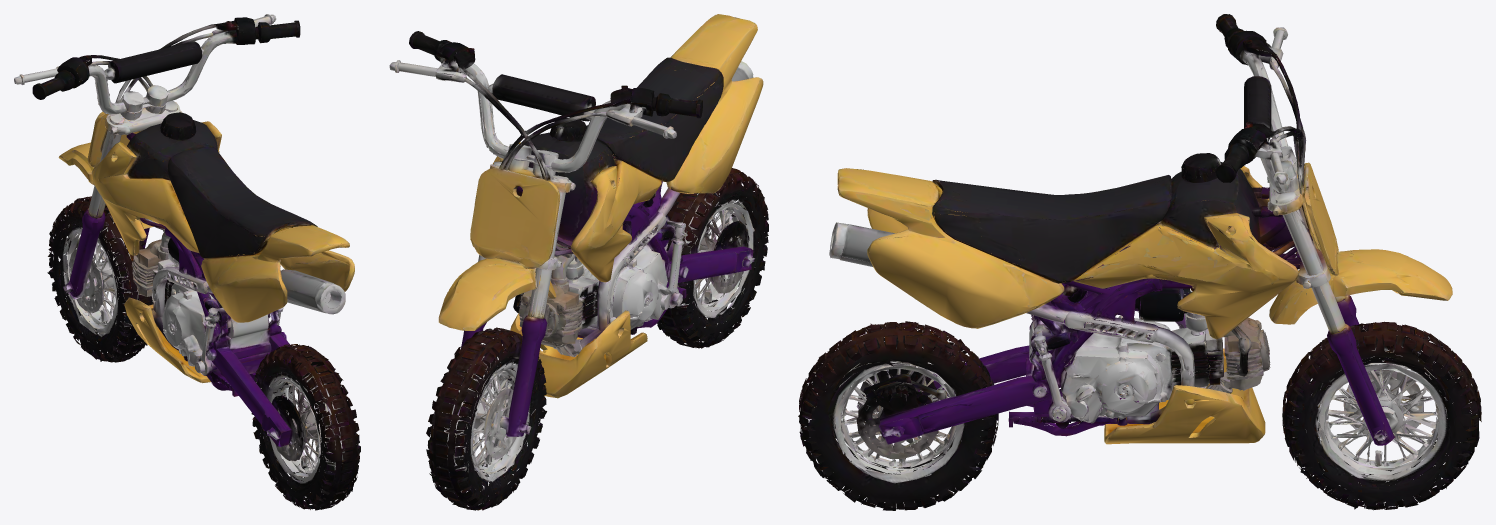
File: bike_pitbike.glb
3 renders of one model, left to right at view 1: azimuth 30°, elevation 25°; view 2: azimuth 150°, elevation 25°; view 3: azimuth 270°, elevation 25°, orthographic. The views are drawn at different scales.
Parts seen in each view (by area): view 1: bike_body, wheel_r, wheel_f; view 2: bike_body, wheel_f, wheel_r; view 3: bike_body, wheel_r, wheel_f.
Boxes of the visible parts, x1,y1,x2,y2 form: bike_body: (14,14,354,446); wheel_r: (251,344,360,510); wheel_f: (47,196,153,362); bike_body: (389,14,763,436); wheel_f: (426,327,546,510); wheel_r: (657,168,768,348); bike_body: (829,14,1452,444); wheel_r: (798,321,998,510); wheel_f: (1282,321,1481,510).
Bounding box in the file's own units: 0.9483 × 1.22 × 1.78.
Materials: 1 (1 with a texture image).
